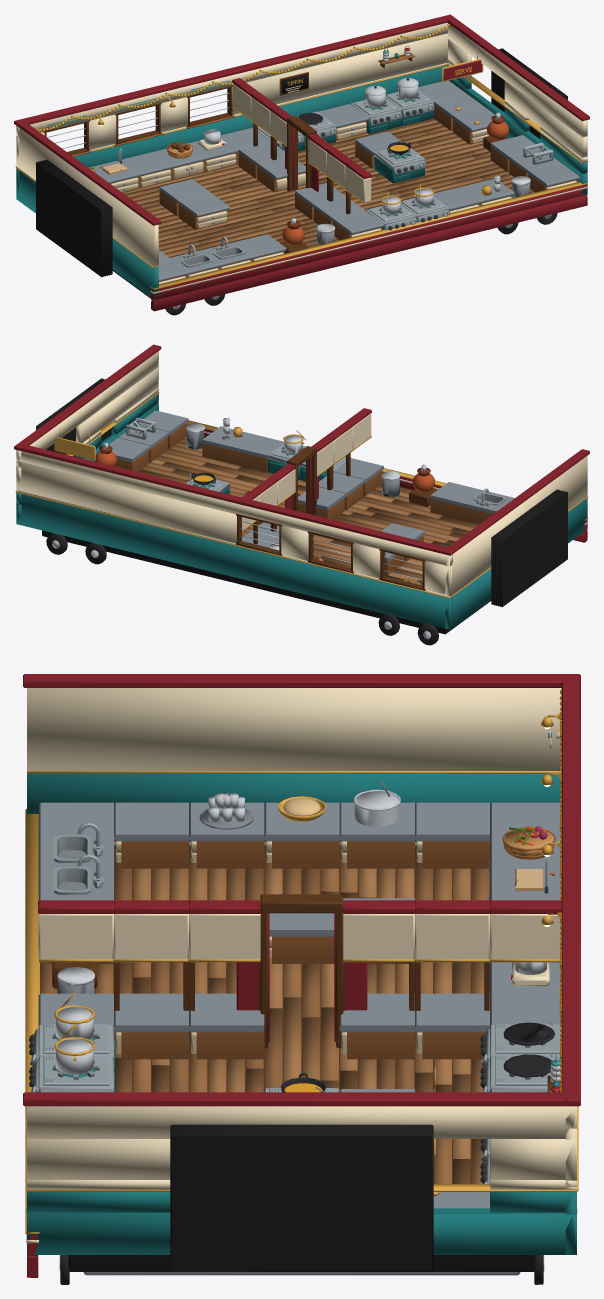
The model's file is kitchen-3.glb.
The picture shows the model from 3 angles, top to bottom: view 1: azimuth 30°, elevation 25°; view 2: azimuth 150°, elevation 25°; view 3: azimuth 270°, elevation 25°; orthographic projection. The views are drawn at different scales.
Visible parts, largest first — view 1: kitchen; view 2: kitchen; view 3: kitchen, doors.
Part boxes in pixels (x1,y1,x2,y2): kitchen: (14, 14, 589, 315); kitchen: (14, 344, 589, 645); kitchen: (23, 674, 580, 1284); doors: (236, 913, 367, 1041).
Bounding box in the file's own units: 14.33 × 3.15 × 7.42.
43 materials, 7 textured.
